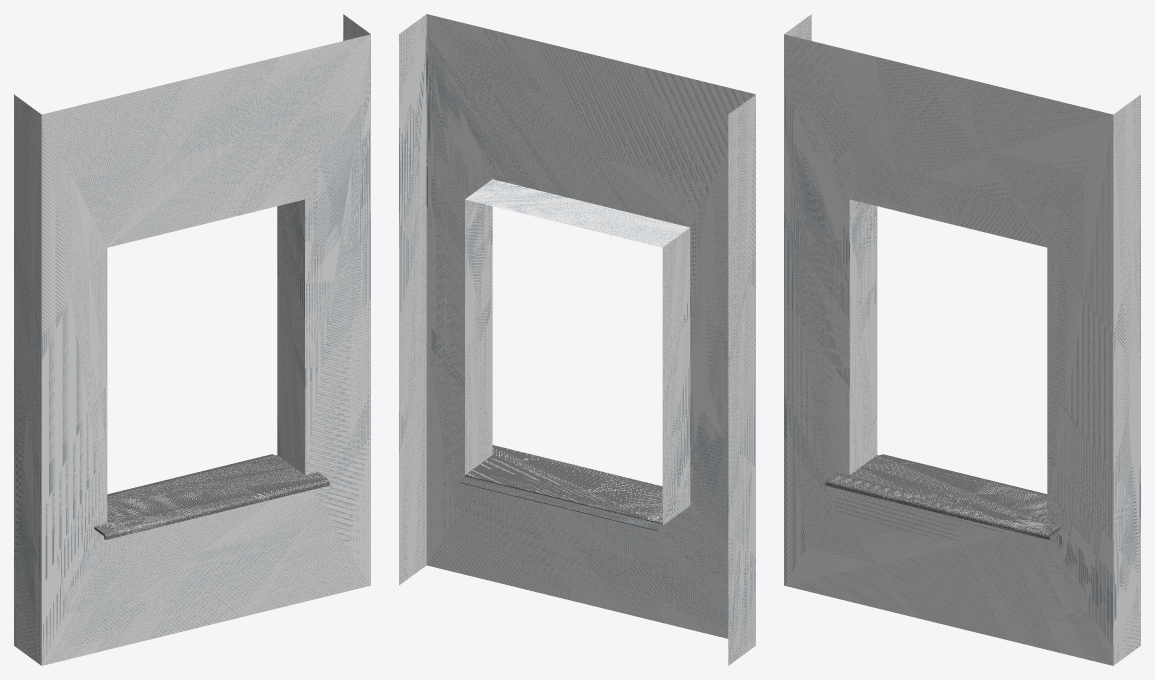
Rendered from WindowBlock_os_[250x400]_150x200x[090].dae.
3 views of the same model, side by side, from view 1: azimuth 30°, elevation 25°; view 2: azimuth 150°, elevation 25°; view 3: azimuth 330°, elevation 25° (orthographic).
Visible parts, largest first — view 1: group_2 (×2), group_1; view 2: group_2 (×2), group_1 (×2); view 3: group_2 (×2), group_1.
Boxes of the visible parts, x1,y1,x2,y2 form: group_2 (×2): (14, 14, 370, 665); group_1: (94, 455, 329, 539); group_2 (×2): (399, 14, 755, 665); group_1 (×2): (459, 445, 662, 530); group_2 (×2): (784, 14, 1140, 665); group_1: (825, 455, 1059, 539).
Size of the model in its own units: 98.43 by 23.03 by 157.
